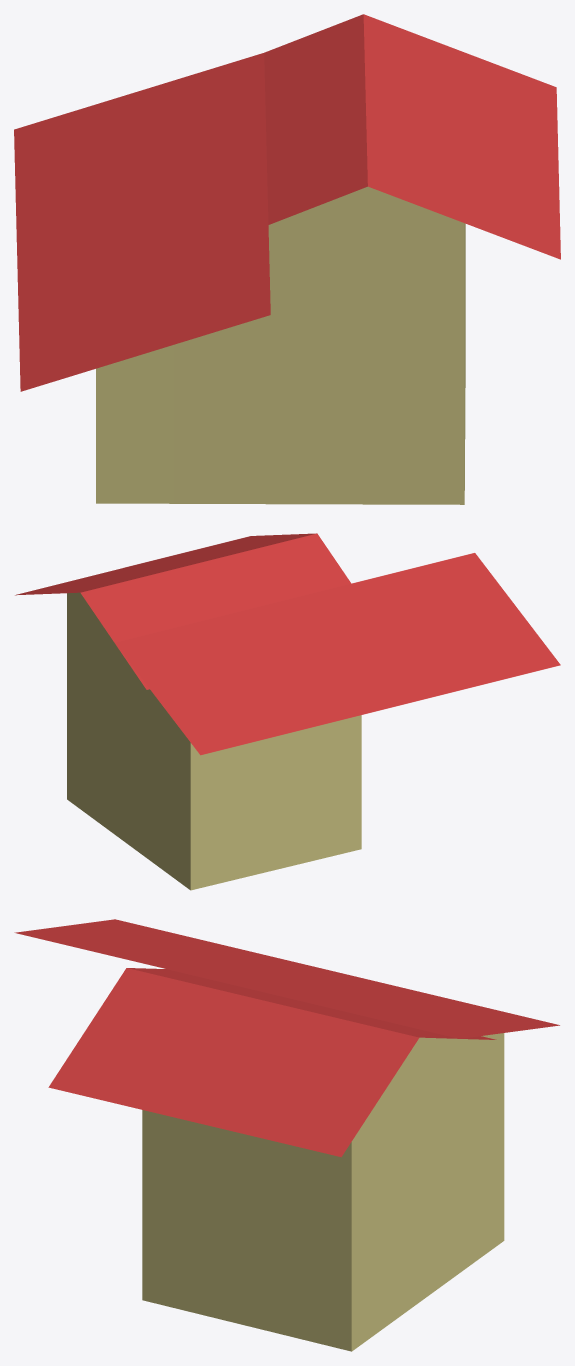
The picture shows the model from 3 angles, top to bottom: view 1: azimuth 30°, elevation 25°; view 2: azimuth 150°, elevation 25°; view 3: azimuth 270°, elevation 25°; orthographic projection. The views are drawn at different scales.
Size of the model in its own units: 16.06 by 13.71 by 8.01.
